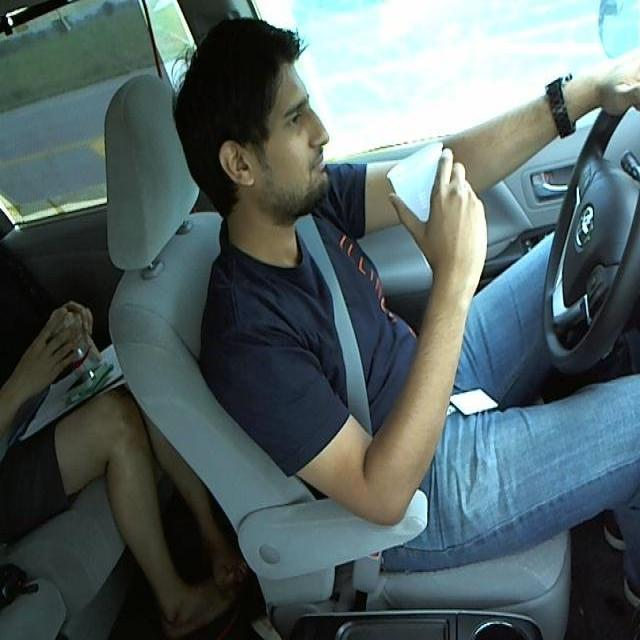drinking: (386, 139, 471, 275)
